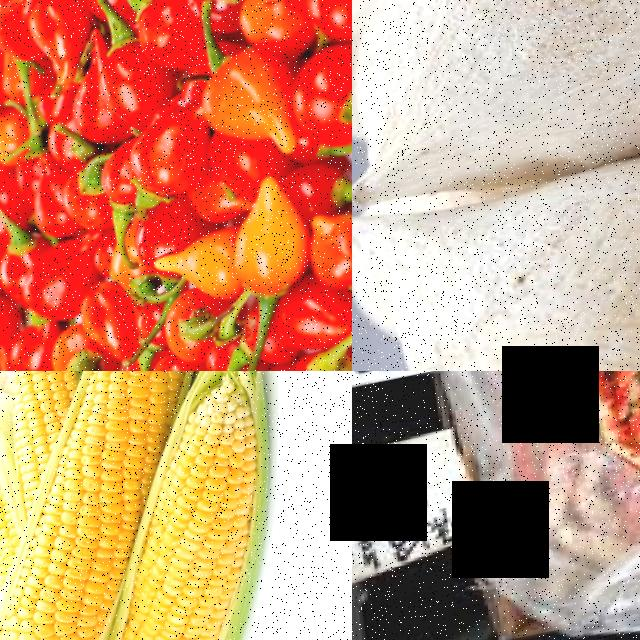coconut: (352, 111, 640, 371), (352, 0, 640, 207)
corn: (112, 386, 295, 600), (0, 480, 154, 640), (38, 371, 223, 491), (84, 562, 290, 640), (0, 390, 42, 574), (0, 371, 99, 438)
crab: (504, 371, 640, 496)
